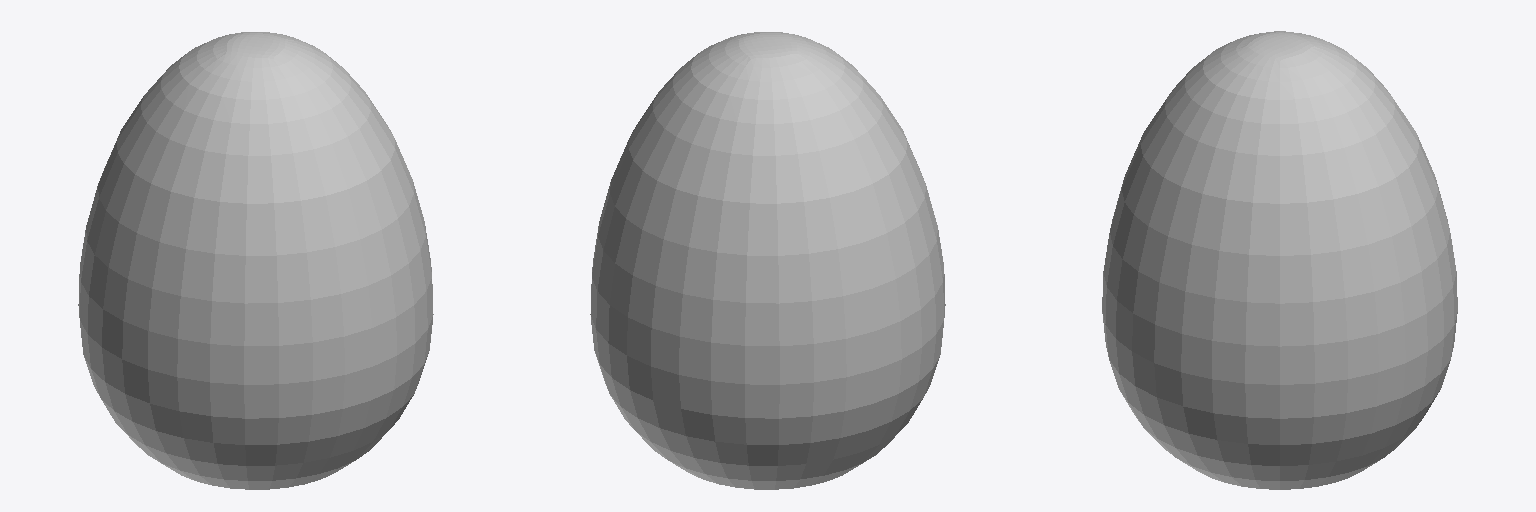
Rendered from dragonegg.obj.
3 views of the same model, side by side, from view 1: azimuth 30°, elevation 25°; view 2: azimuth 150°, elevation 25°; view 3: azimuth 270°, elevation 25° (orthographic).
Visible parts, largest first — view 1: Sphere; view 2: Sphere; view 3: Sphere.
Part boxes in pixels (bbox=[...]): Sphere: bbox=[78, 32, 433, 489]; Sphere: bbox=[590, 32, 945, 489]; Sphere: bbox=[1102, 31, 1457, 489].
Size of the model in its own units: 0.1059 by 0.1396 by 0.1059.